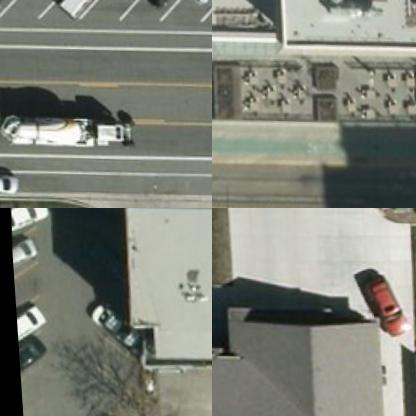car: (362, 270, 414, 337), (84, 302, 142, 346), (51, 0, 111, 18), (12, 300, 42, 335), (14, 334, 40, 374), (7, 208, 47, 226), (9, 234, 34, 262), (0, 164, 16, 195)
